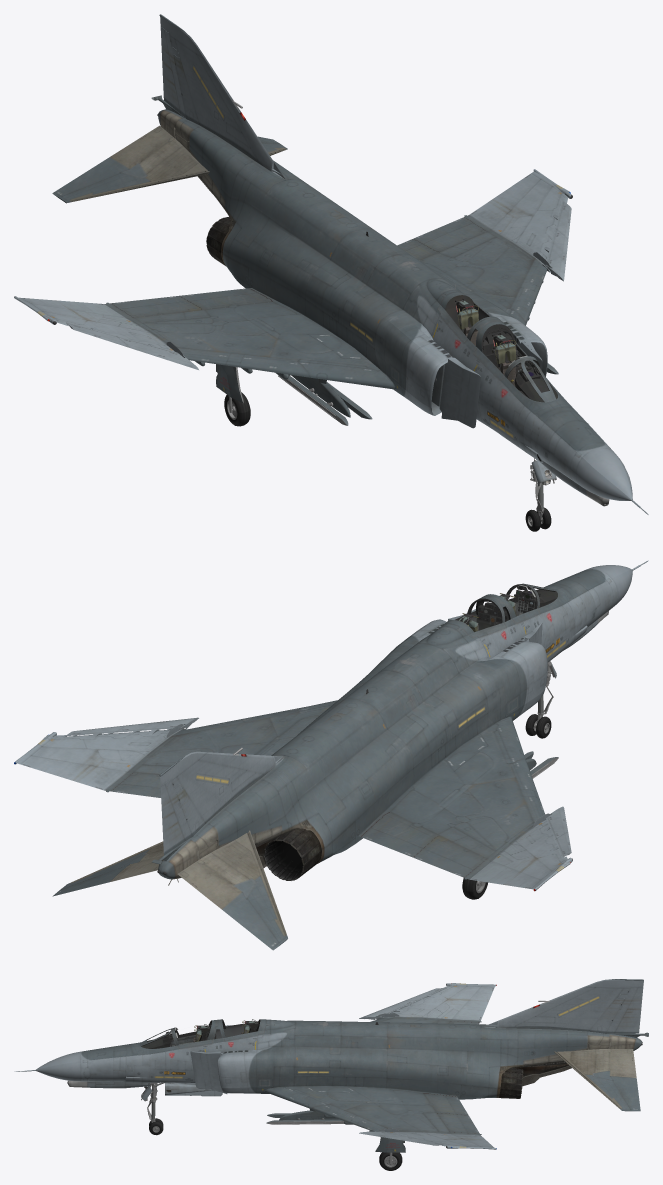
Rendered from f-4e_phantom_ii.glb.
The picture shows the model from 3 angles, top to bottom: view 1: azimuth 30°, elevation 25°; view 2: azimuth 150°, elevation 25°; view 3: azimuth 270°, elevation 25°; orthographic projection. The views are drawn at different scales.
Parts seen in each view (by area): view 1: Part1_5, Part1_3_4, Part1_1_2; view 2: Part1_5, Part1_3_4, Part1_1_2; view 3: Part1_5, Part1_1_2, Part1_3_4.
Boxes of the visible parts, box(x1,y1,x2,y2) form: Part1_5: box(14, 14, 648, 514); Part1_3_4: box(445, 295, 557, 402); Part1_1_2: box(216, 364, 556, 531); Part1_5: box(14, 560, 648, 950); Part1_3_4: box(455, 584, 557, 632); Part1_1_2: box(462, 661, 556, 899); Part1_5: box(14, 979, 648, 1149); Part1_1_2: box(141, 1082, 405, 1170); Part1_3_4: box(141, 1019, 260, 1048).
Size of the model in its own units: 12.31 by 5.38 by 20.07.
Materials: 2 (2 with a texture image).
